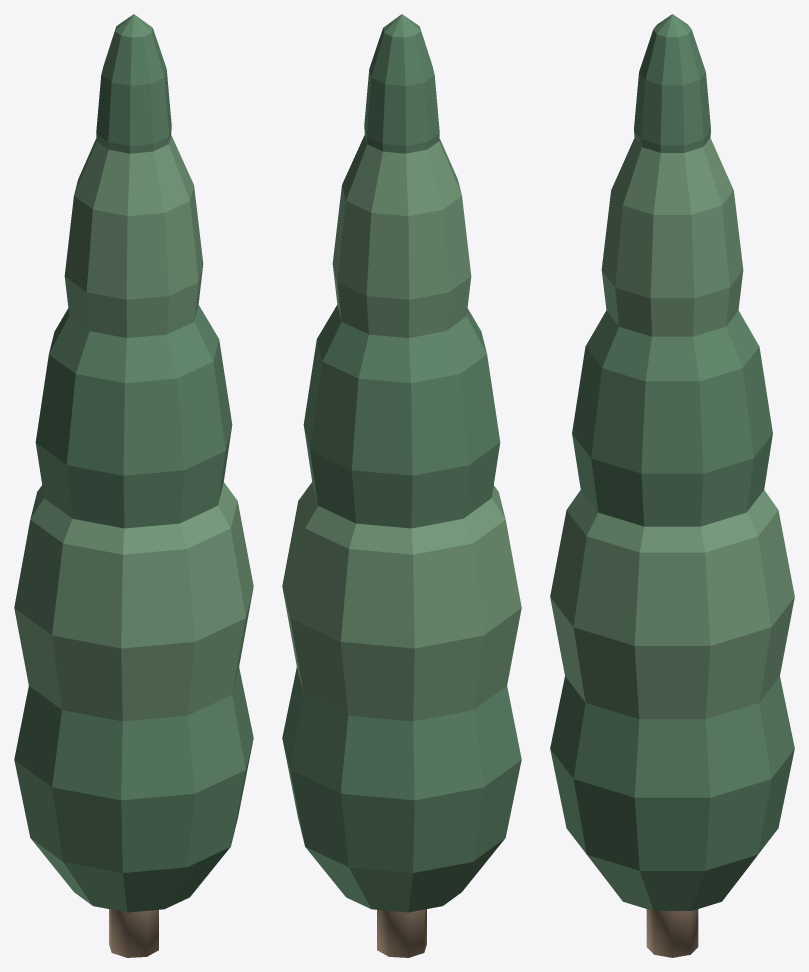
Rendered from cipres.glb.
The picture shows the model from 3 angles, left to right: view 1: azimuth 30°, elevation 25°; view 2: azimuth 150°, elevation 25°; view 3: azimuth 270°, elevation 25°; orthographic projection.
Visible parts, largest first — view 1: cipres; view 2: cipres; view 3: cipres.
Part boxes in pixels (x1=…): cipres: x1=14, y1=14, x2=253, y2=957; cipres: x1=282, y1=14, x2=521, y2=957; cipres: x1=550, y1=14, x2=794, y2=957.
Bounding box in the file's own units: 1.81 × 7.99 × 1.9.
